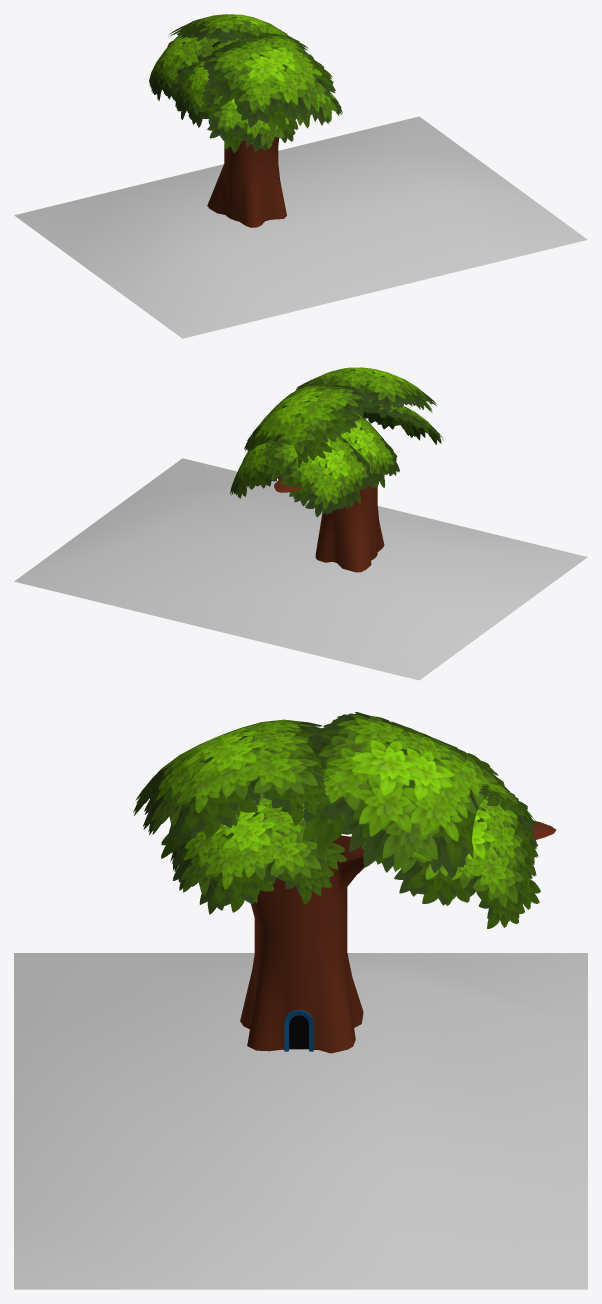
The model's file is house_bluey.fbx.
The picture shows the model from 3 angles, top to bottom: view 1: azimuth 30°, elevation 25°; view 2: azimuth 150°, elevation 25°; view 3: azimuth 270°, elevation 25°; orthographic projection. The views are drawn at different scales.
Visible parts, largest first — view 1: Grid.002, tree-leaf-texture.001, Grid, tree-leaf-texture.005, tree-leaf-texture.006, tree-leaf-texture.002, tree-leaf-texture.007, tree-leaf-texture.003; view 2: Grid.002, tree-leaf-texture.002, tree-leaf-texture.006, Grid, tree-leaf-texture.001, tree-leaf-texture.007, tree-leaf-texture.005, tree-leaf-texture.004; view 3: Grid.002, tree-leaf-texture.002, Grid, tree-leaf-texture.001, tree-leaf-texture.003, tree-leaf-texture.004, tree-leaf-texture.006.
Boxes of the visible parts, x1=… form: Grid.002: x1=14, y1=116, x2=587, y2=338; tree-leaf-texture.001: x1=201, y1=34, x2=335, y2=131; Grid: x1=167, y1=41, x2=286, y2=227; tree-leaf-texture.005: x1=199, y1=74, x2=298, y2=153; tree-leaf-texture.006: x1=149, y1=33, x2=223, y2=100; tree-leaf-texture.002: x1=168, y1=14, x2=306, y2=52; tree-leaf-texture.007: x1=175, y1=40, x2=238, y2=127; tree-leaf-texture.003: x1=286, y1=92, x2=342, y2=128; Grid.002: x1=14, y1=458, x2=587, y2=680; tree-leaf-texture.002: x1=244, y1=385, x2=372, y2=467; tree-leaf-texture.006: x1=263, y1=435, x2=374, y2=517; Grid: x1=274, y1=477, x2=384, y2=572; tree-leaf-texture.001: x1=295, y1=367, x2=436, y2=412; tree-leaf-texture.007: x1=340, y1=412, x2=399, y2=488; tree-leaf-texture.005: x1=362, y1=400, x2=443, y2=444; tree-leaf-texture.004: x1=230, y1=442, x2=296, y2=498; Grid.002: x1=14, y1=953, x2=587, y2=1289; tree-leaf-texture.002: x1=281, y1=712, x2=508, y2=878; Grid: x1=240, y1=821, x2=556, y2=1053; tree-leaf-texture.001: x1=133, y1=719, x2=329, y2=846; tree-leaf-texture.003: x1=161, y1=796, x2=346, y2=914; tree-leaf-texture.004: x1=394, y1=788, x2=540, y2=928; tree-leaf-texture.006: x1=479, y1=783, x2=539, y2=842.
Size of the model in its own units: 12074 by 5811 by 8699.
